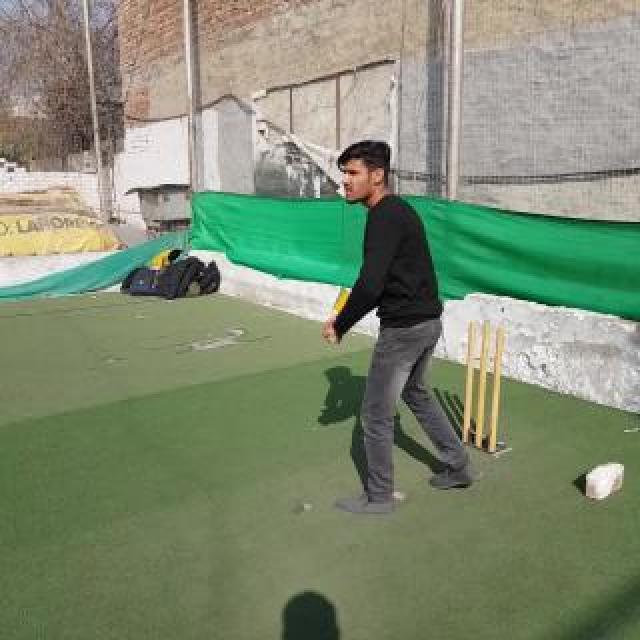bat: (326, 285, 352, 343)
